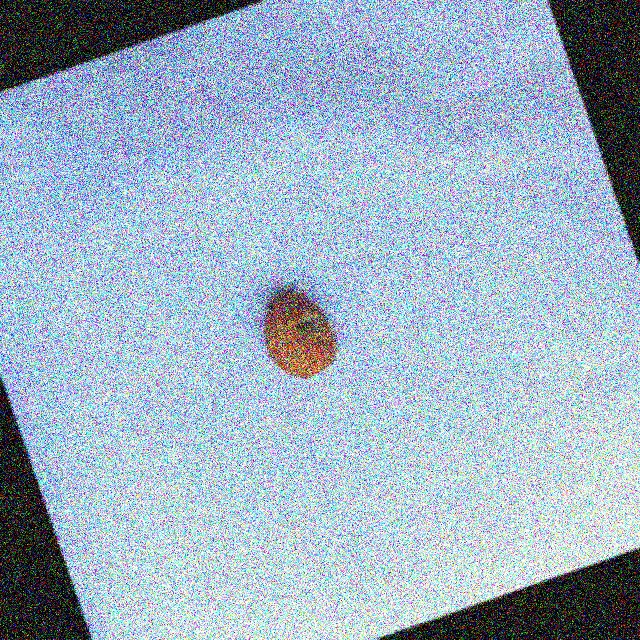grade3: (248, 275, 351, 392)
